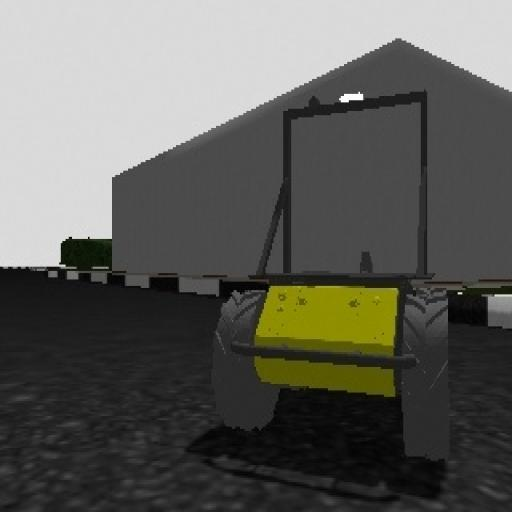huskya200: (202, 89, 461, 468)
